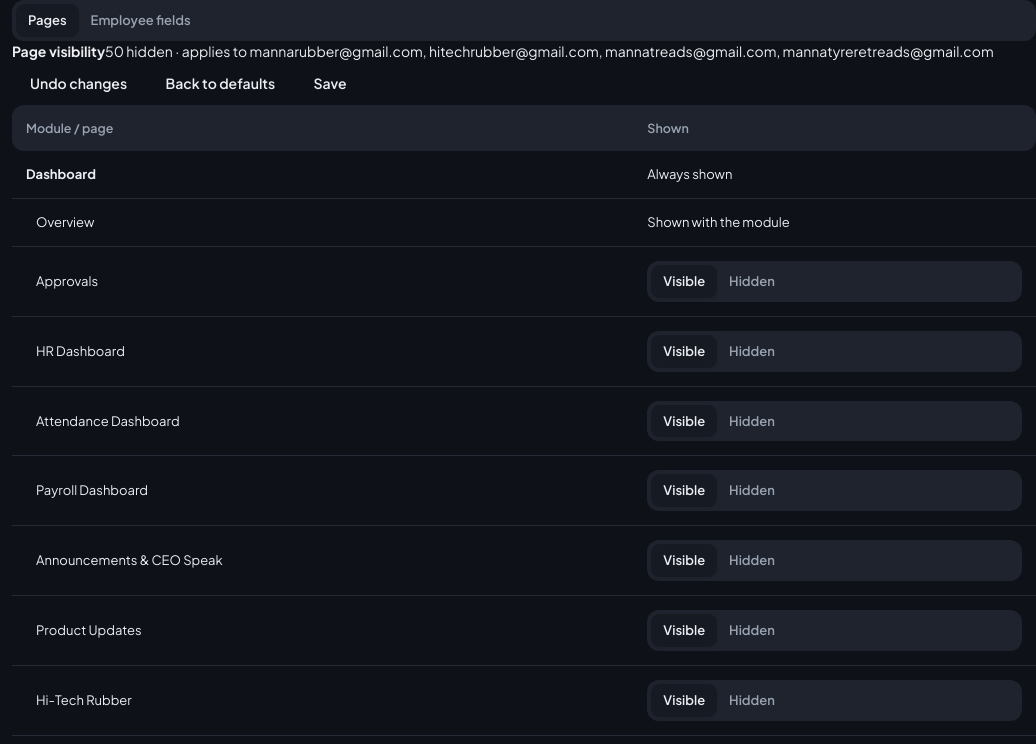
the Employee fields editor › says the rules were dropped when the site answers a save and keeps nothing
This screenshot has width=1036, height=744.
Click the button "Employee fields": {"x": 141, "y": 20} [79,4,203,37]
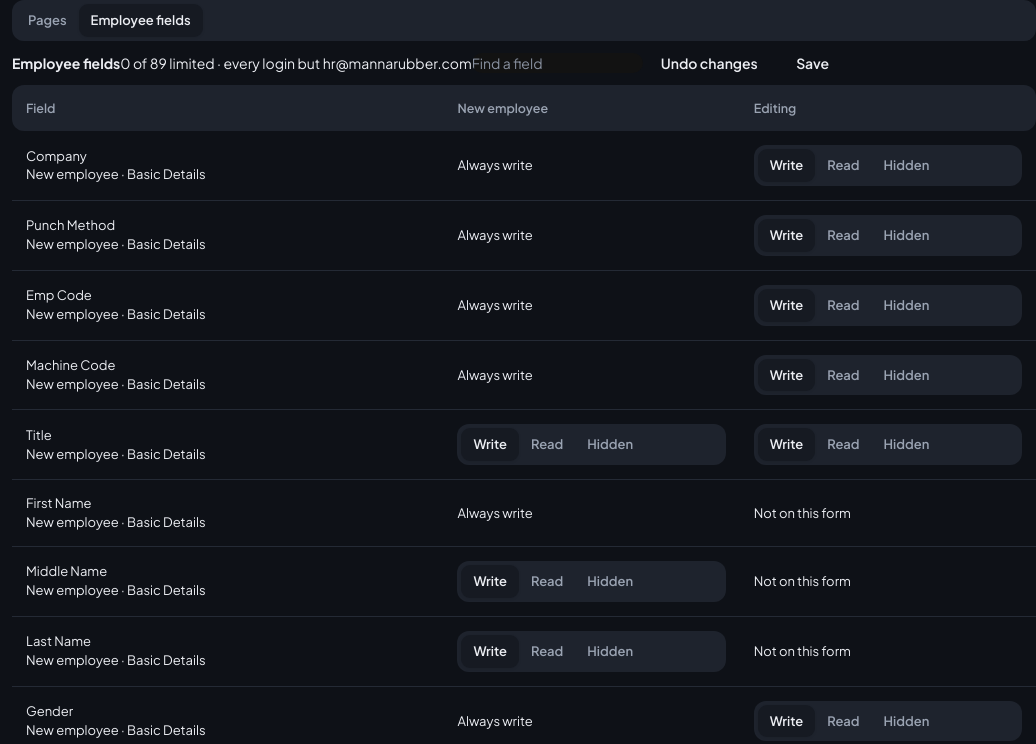
Click the button "Read" in the row of "Emp Code": {"x": 843, "y": 305} [815,289,872,322]
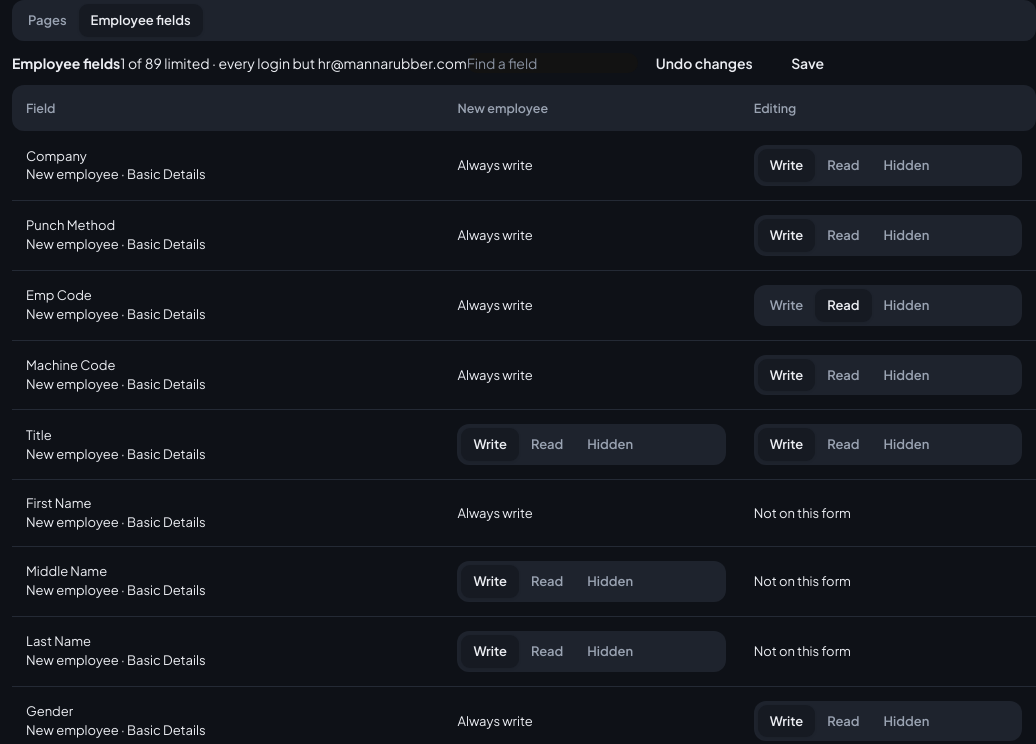
Click the button "Save": {"x": 808, "y": 63} [773,41,842,85]
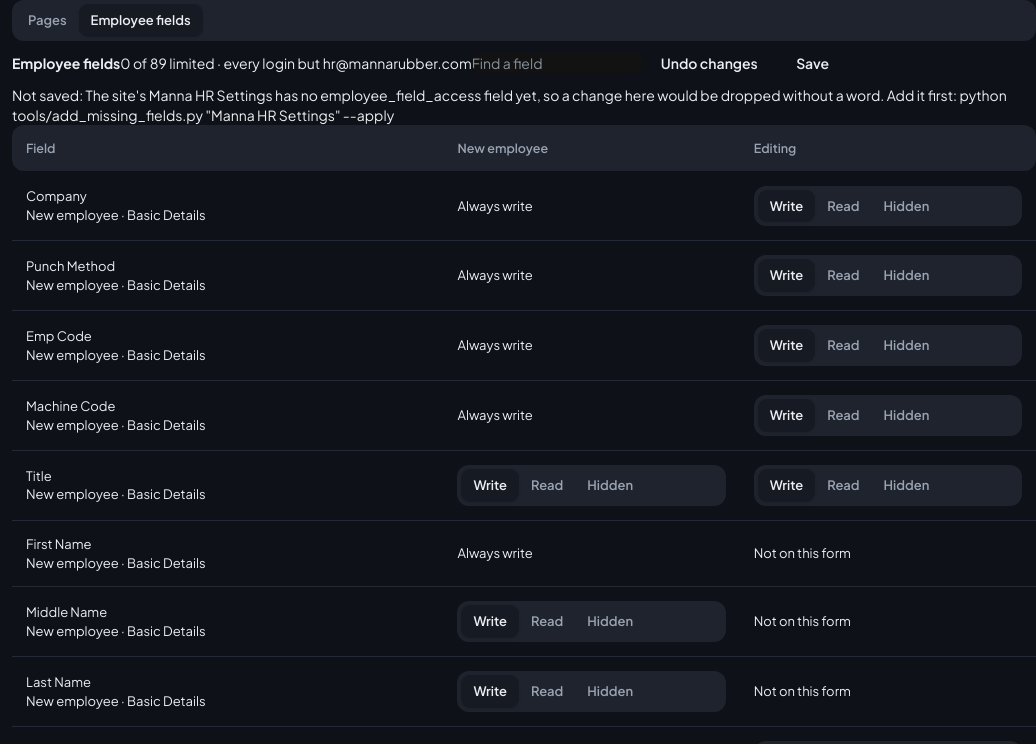
Expected: the text "no employee_field_access field" is shown, [12,86,1007,124]
